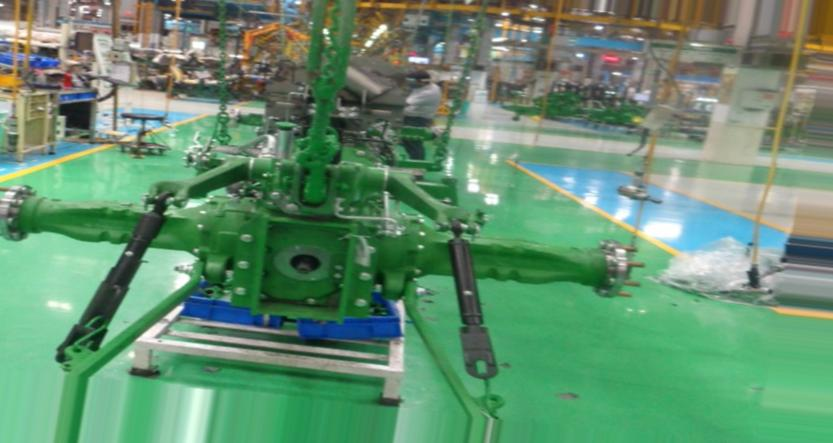engine: (3, 0, 645, 374)
